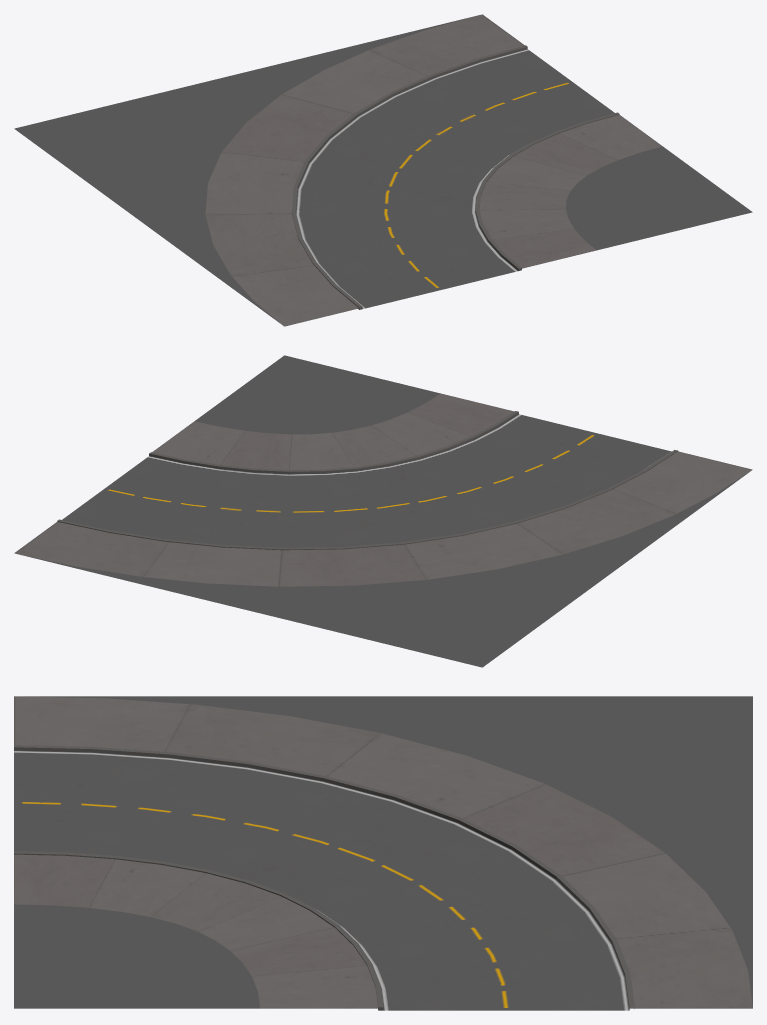
Rendered from SM_Floor_Road_06.fbx.
3 views of the same model, one above another, from view 1: azimuth 30°, elevation 25°; view 2: azimuth 150°, elevation 25°; view 3: azimuth 270°, elevation 25° (orthographic). The views are drawn at different scales.
Visible parts, largest first — view 1: SM_Floor_Road_06; view 2: SM_Floor_Road_06; view 3: SM_Floor_Road_06.
Boxes of the visible parts, bbox=[...] form: SM_Floor_Road_06: bbox=[14, 14, 752, 326]; SM_Floor_Road_06: bbox=[14, 355, 752, 667]; SM_Floor_Road_06: bbox=[14, 696, 752, 1010].
Size of the model in its own units: 15 by 0.075 by 15.
